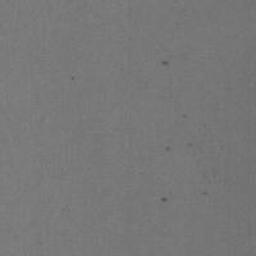Inclusion: (160, 196, 169, 204), (160, 59, 170, 65), (200, 191, 210, 197)
